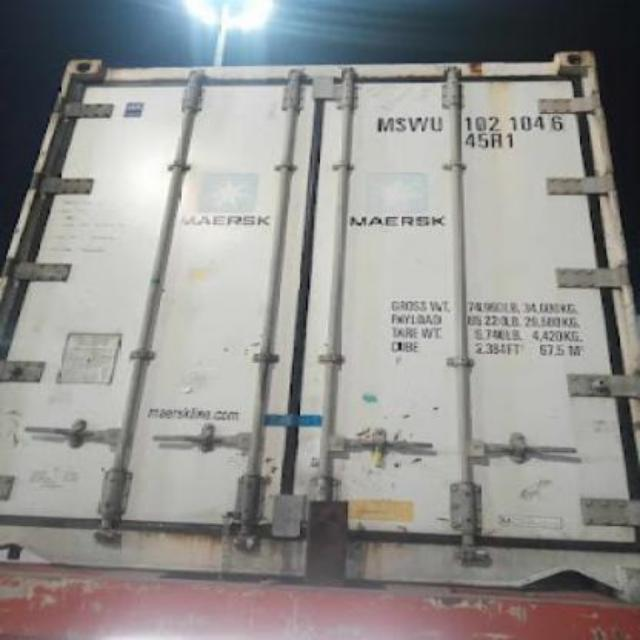0: (518, 109, 532, 135), (474, 112, 488, 132)
1: (506, 111, 520, 132), (461, 111, 474, 132)
2: (488, 111, 500, 132)
4: (530, 112, 548, 134)
6: (550, 112, 566, 136)
M: (374, 112, 394, 134)
S: (394, 113, 406, 137)
U: (430, 112, 446, 134)
W: (406, 109, 430, 135)
